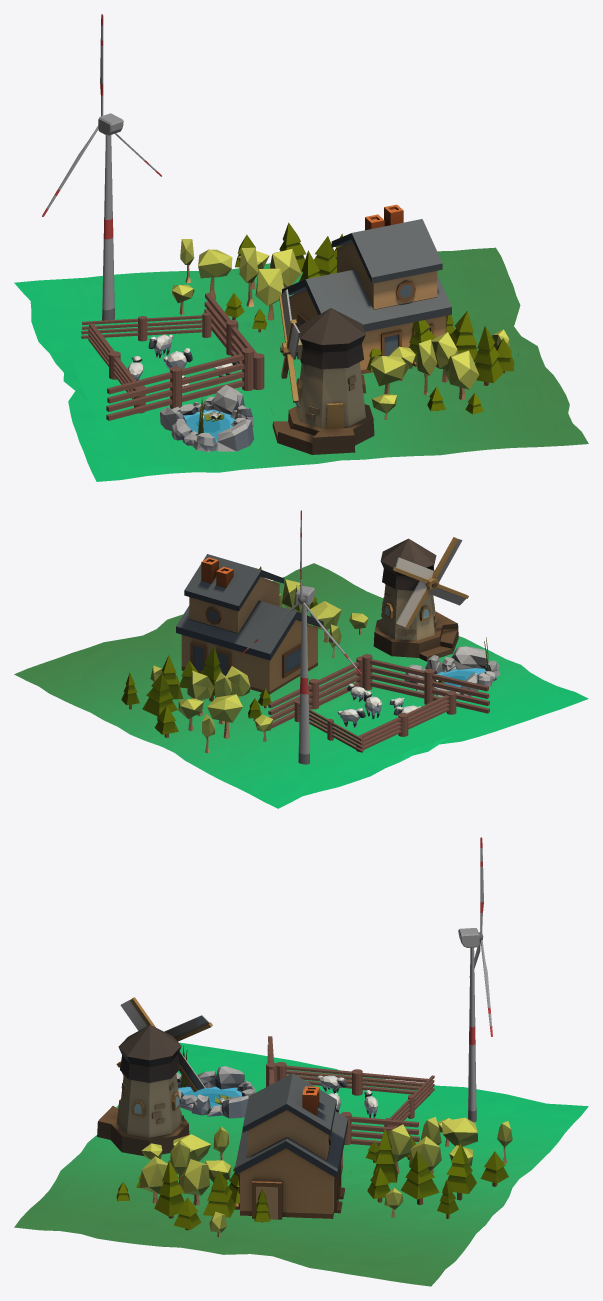
The picture shows the model from 3 angles, top to bottom: view 1: azimuth 30°, elevation 25°; view 2: azimuth 150°, elevation 25°; view 3: azimuth 270°, elevation 25°; orthographic projection. The views are drawn at different scales.
Parts seen in each view (by area): view 1: Object_55, Object_67, Object_43, Object_71, Object_6, node_MeshObject463054976-PolyPaper20_3, Object_63, buffer-0-mesh-0_1_20, node_MeshObject463054976-PolyPaper20_31, node_MeshObject463054976-PolyPaper20_9, node_MeshObject463054976-PolyPaper20_6; view 2: Object_55, Object_67, Object_43, Object_6, node_MeshObject463054976-PolyPaper20_3, Object_63, node_MeshObject463054976-PolyPaper20_9, buffer-0-mesh-0_1_20, node_MeshObject463054976-PolyPaper20_6, Object_71, node_MeshObject463054976-PolyPaper20_31; view 3: Object_55, Object_67, Object_43, Object_6, Object_71, Object_63, node_MeshObject463054976-PolyPaper20_6, buffer-0-mesh-0_1_20, node_MeshObject463054976-PolyPaper20_9, node_MeshObject463054976-PolyPaper20_31.
Boxes of the visible parts, x1,y1,x2,y2 form: Object_55: (14,247,588,481); Object_67: (282,204,451,374); Object_43: (272,289,374,454); Object_71: (367,311,514,419); Object_6: (172,222,342,332); node_MeshObject463054976-PolyPaper20_3: (106,348,253,420); Object_63: (160,384,253,451); buffer-0-mesh-0_1_20: (47,25,156,310); node_MeshObject463054976-PolyPaper20_31: (81,312,211,341); node_MeshObject463054976-PolyPaper20_9: (204,293,264,389); node_MeshObject463054976-PolyPaper20_6: (88,323,145,413); Object_55: (14,563,588,808); Object_67: (176,554,323,694); Object_43: (373,537,468,661); Object_6: (121,646,273,753); node_MeshObject463054976-PolyPaper20_3: (362,654,489,713); Object_63: (404,637,500,696); node_MeshObject463054976-PolyPaper20_9: (268,656,362,728); buffer-0-mesh-0_1_20: (247,520,356,754); node_MeshObject463054976-PolyPaper20_6: (356,690,456,751); Object_71: (259,566,368,657); node_MeshObject463054976-PolyPaper20_31: (294,700,363,752); Object_55: (14,1042,588,1286); Object_67: (235,1073,347,1219); Object_43: (97,997,212,1156); Object_6: (365,1117,512,1218); Object_71: (116,1126,270,1237); Object_63: (176,1046,255,1118); node_MeshObject463054976-PolyPaper20_6: (276,1062,429,1095); buffer-0-mesh-0_1_20: (458,848,491,1111); node_MeshObject463054976-PolyPaper20_9: (341,1112,419,1145); node_MeshObject463054976-PolyPaper20_31: (384,1075,434,1127).
Bounding box in the file's own units: 103 × 57.04 × 102.
Materials: 18 (11 with a texture image).
